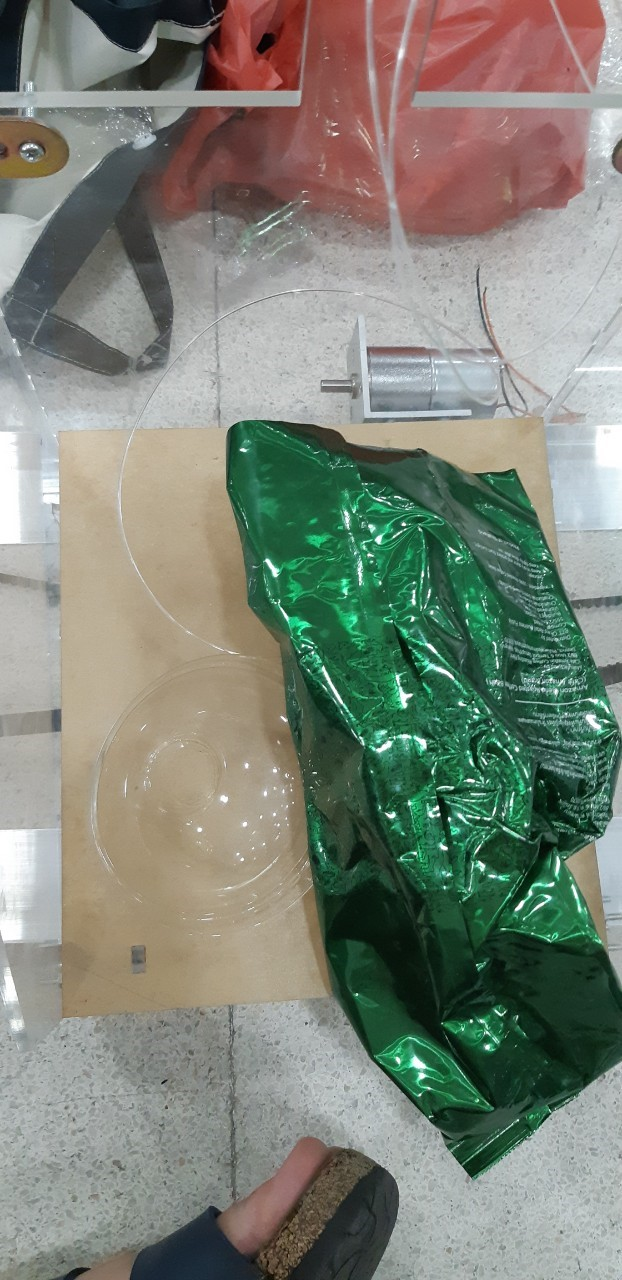Others: (226, 421, 622, 1181)
